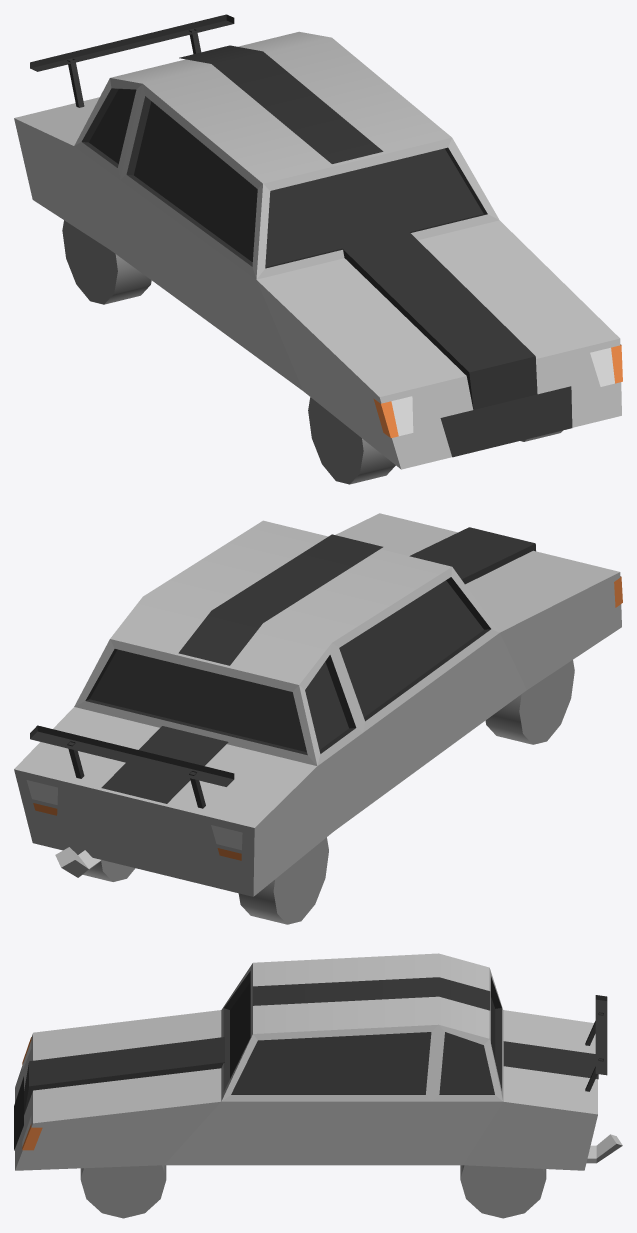
Rendered from sportscar_17.fbx.
3 renders of one model, top to bottom at view 1: azimuth 30°, elevation 25°; view 2: azimuth 150°, elevation 25°; view 3: azimuth 270°, elevation 25°, orthographic. The views are drawn at different scales.
Parts seen in each view (by area): view 1: sportscar_17; view 2: sportscar_17; view 3: sportscar_17.
Boxes of the visible parts, x1=… form: sportscar_17: x1=14, y1=14, x2=622, y2=484; sportscar_17: x1=14, y1=513, x2=622, y2=924; sportscar_17: x1=14, y1=953, x2=622, y2=1218.
Size of the model in its own units: 1.6 by 1.56 by 4.49.
